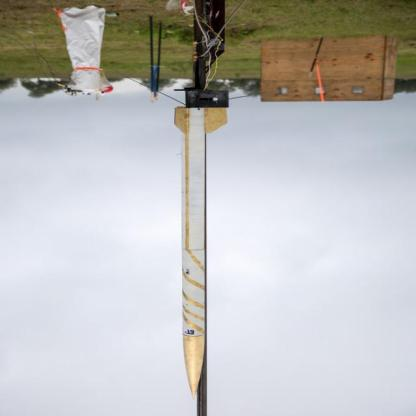MIL_TBM: (179, 103, 211, 395)
